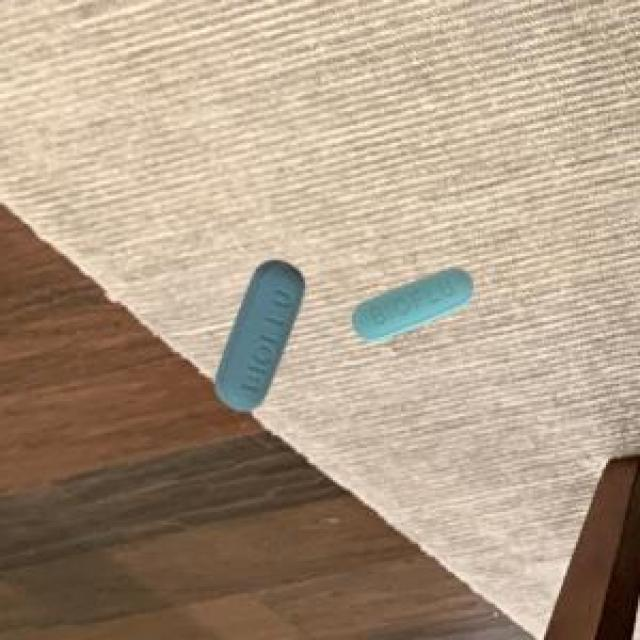Bioflu: (201, 245, 316, 426), (343, 250, 485, 348)
